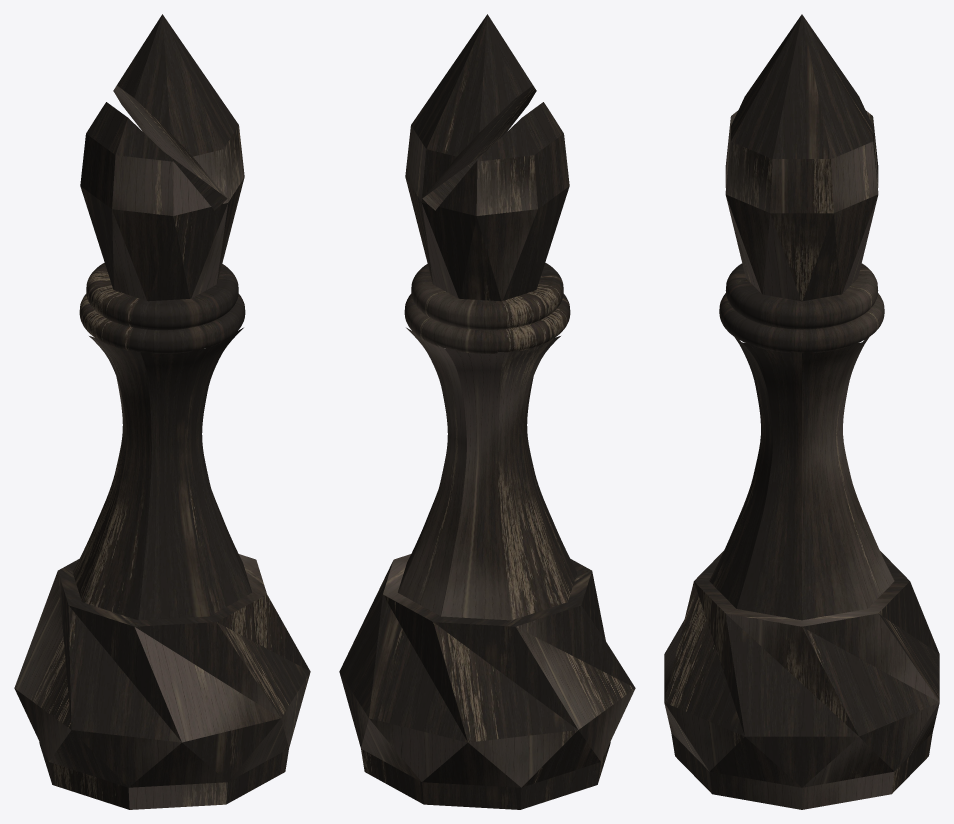
Rendered from bishop-black-hd.glb.
3 renders of one model, left to right at view 1: azimuth 30°, elevation 25°; view 2: azimuth 150°, elevation 25°; view 3: azimuth 270°, elevation 25°, orthographic.
Visible parts, largest first — view 1: Lithoxyl_Bishop_Onyx; view 2: Lithoxyl_Bishop_Onyx; view 3: Lithoxyl_Bishop_Onyx.
Boxes of the visible parts, box(x1,y1,x2,y2) form: Lithoxyl_Bishop_Onyx: box(14, 14, 310, 809); Lithoxyl_Bishop_Onyx: box(339, 14, 635, 809); Lithoxyl_Bishop_Onyx: box(664, 14, 939, 809).
Size of the model in its own units: 0.4372 by 1.3 by 0.4372.
1 material, 1 textured.
